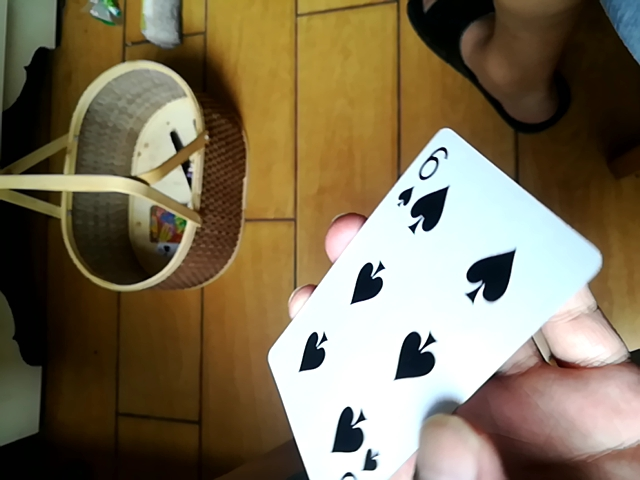ht 6: (267, 129, 608, 479)
